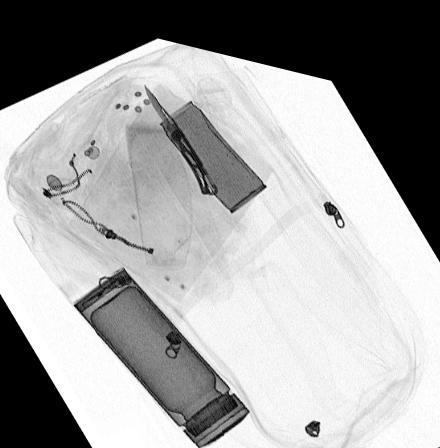Knife: (142, 73, 219, 185)
